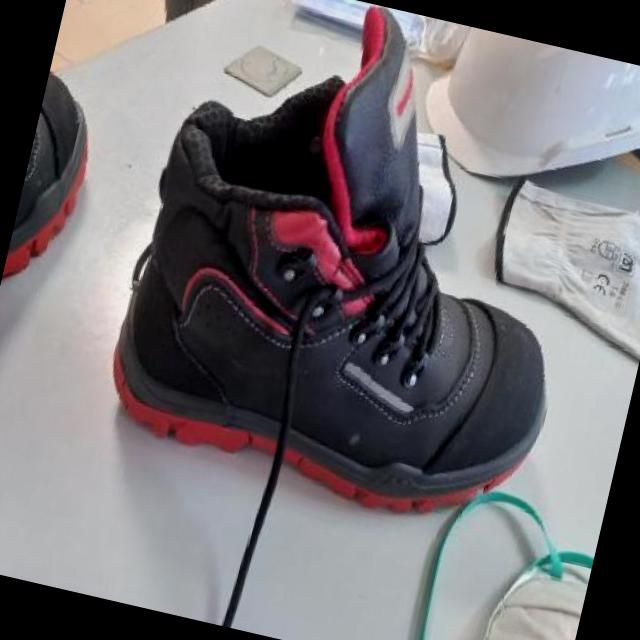boots: (93, 0, 626, 533)
helmet: (407, 19, 640, 212)
